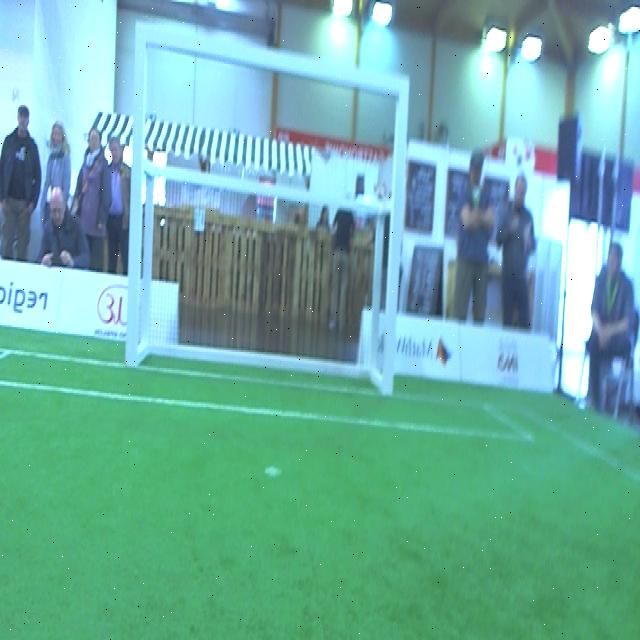goalpost: (124, 25, 151, 364), (382, 76, 410, 393)
